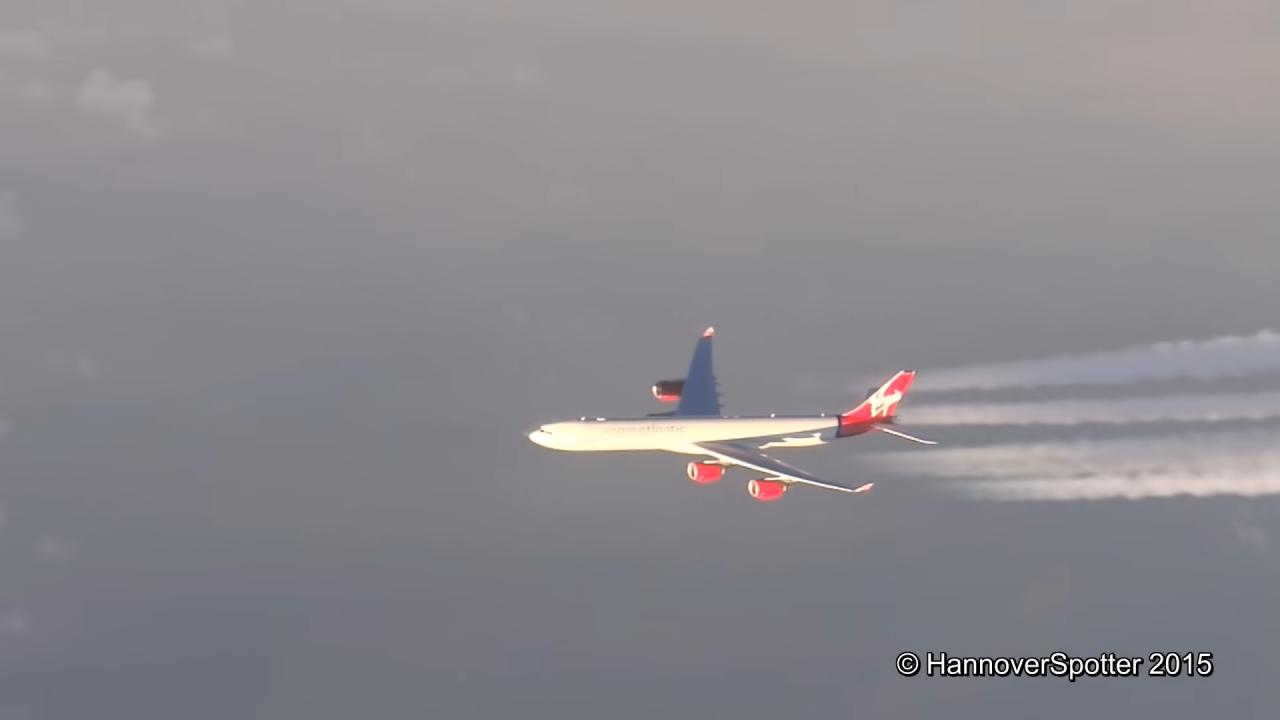Airplane: (515, 318, 948, 508)
